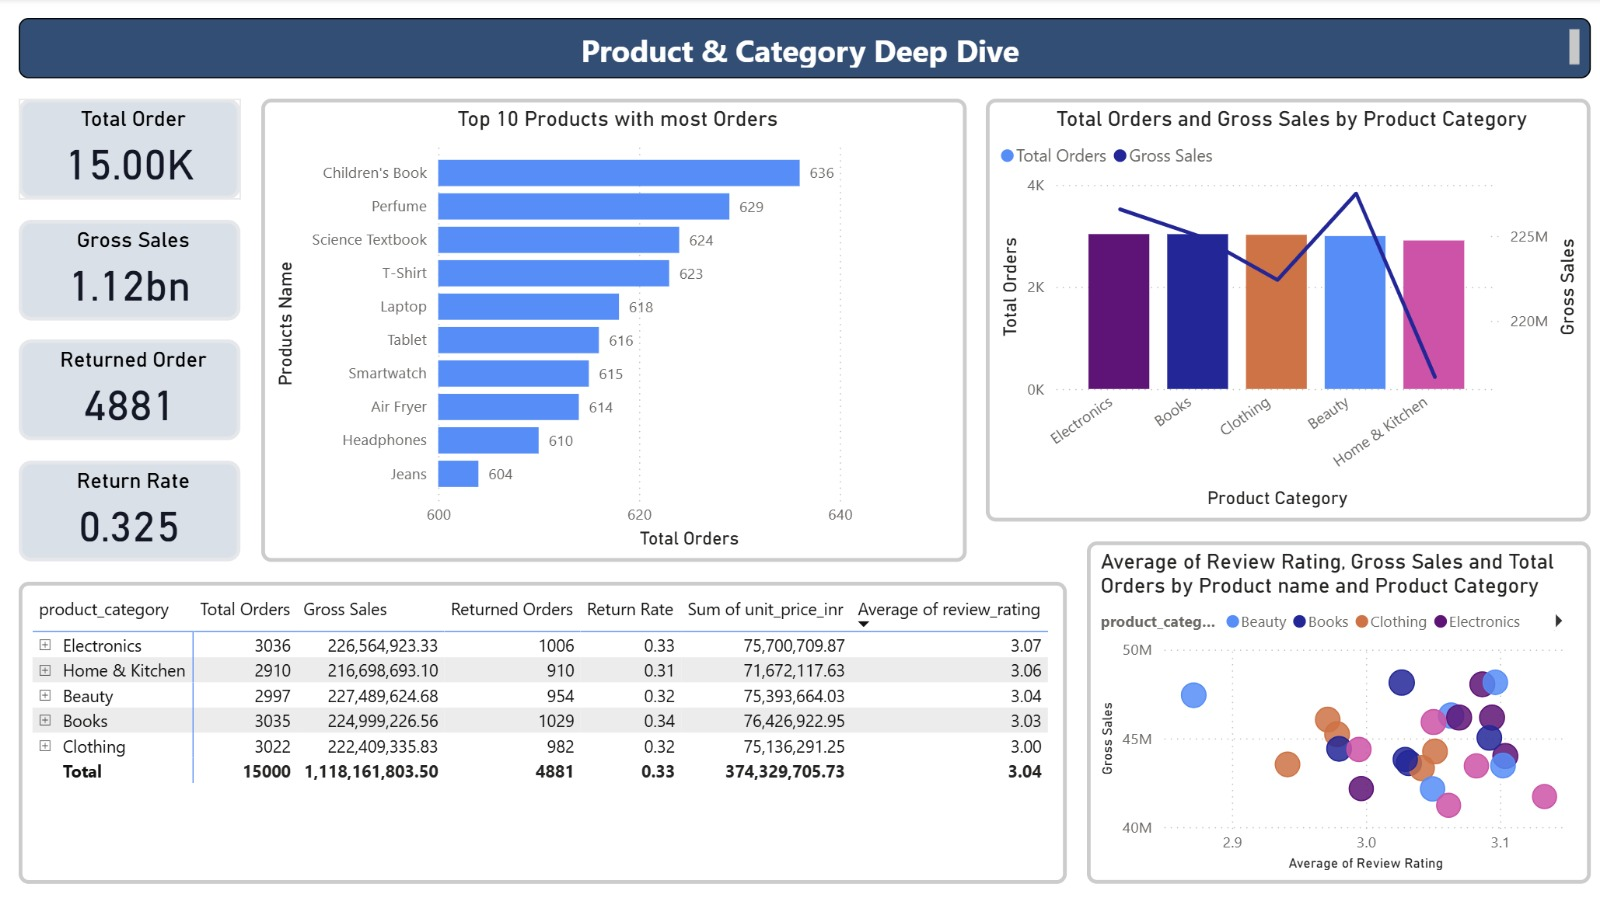

This screenshot's page, from the dashboard's own definition file:
{"tool":"powerbi","page":{"name":"Product & Category Deep DIve","canvas":[1280,720],"ordinal":1},"visuals":[{"type":"textbox","box":[16,16,1248,48],"z":0},{"type":"card","title":"Total Order","fields":{"Values":["CountNonNull(dm_fact_sales.order_id)"]},"box":[16,80,176,80],"z":1000},{"type":"card","title":"Gross Sales","fields":{"Values":["dim_customer.Gross Sales"]},"box":[16,176,176,80],"z":2000},{"type":"card","title":"Returned Order","fields":{"Values":["dim_customer.Returned Orders"]},"box":[16,272,176,80],"z":3000},{"type":"card","title":"Return Rate","fields":{"Values":["dim_customer.Return Rate","select"]},"box":[16,368,176,80],"z":4000},{"type":"barChart","title":"Top 10 Products with most Orders","fields":{"Category":["dim_product.product_name"],"Y":["dim_customer.Total Orders"]},"box":[208,80,560,368],"z":5000},{"type":"lineClusteredColumnComboChart","title":"Total Orders and Gross Sales by Product Category","fields":{"Category":["dim_product.product_category"],"Y":["dim_customer.Total Orders"],"Y2":["dim_customer.Gross Sales"]},"box":[784,80,480,336],"z":6000},{"type":"pivotTable","fields":{"Rows":["dim_product.product_category","dim_product.product_name"],"Values":["dim_customer.Total Orders","dim_customer.Gross Sales","dim_customer.Returned Orders","dim_customer.Return Rate","Sum(dm_fact_sales.unit_price_inr)","Avg(dm_fact_sales.review_rating)"]},"box":[16,464,832,240],"z":7000},{"type":"scatterChart","title":"Average of Review Rating, Gross Sales and Total Orders by Product name and Product Category","fields":{"X":["Avg(dm_fact_sales.review_rating)"],"Y":["dim_customer.Gross Sales"],"Size":["dim_customer.Total Orders"],"Series":["dim_product.product_category"],"Category":["dim_product.product_name"]},"box":[864,432,400,272],"z":8000}]}

Visuals, with their boxes in screenshot pixels (x1, y1, x2, y2), scaled from the page's 1280x720 canvas onto the 1600x901 screenshot:
textbox: 20, 20, 1580, 80
"Total Order" card: 20, 100, 240, 200
"Gross Sales" card: 20, 220, 240, 320
"Returned Order" card: 20, 340, 240, 440
"Return Rate" card: 20, 461, 240, 561
"Top 10 Products with most Orders" barChart: 260, 100, 960, 561
"Total Orders and Gross Sales by Product Category" lineClusteredColumnComboChart: 980, 100, 1580, 521
pivotTable - dim_product.product_category x dim_product.product_name: 20, 581, 1060, 881
"Average of Review Rating, Gross Sales and Total Orders by Product name and Product Category" scatterChart: 1080, 541, 1580, 881
